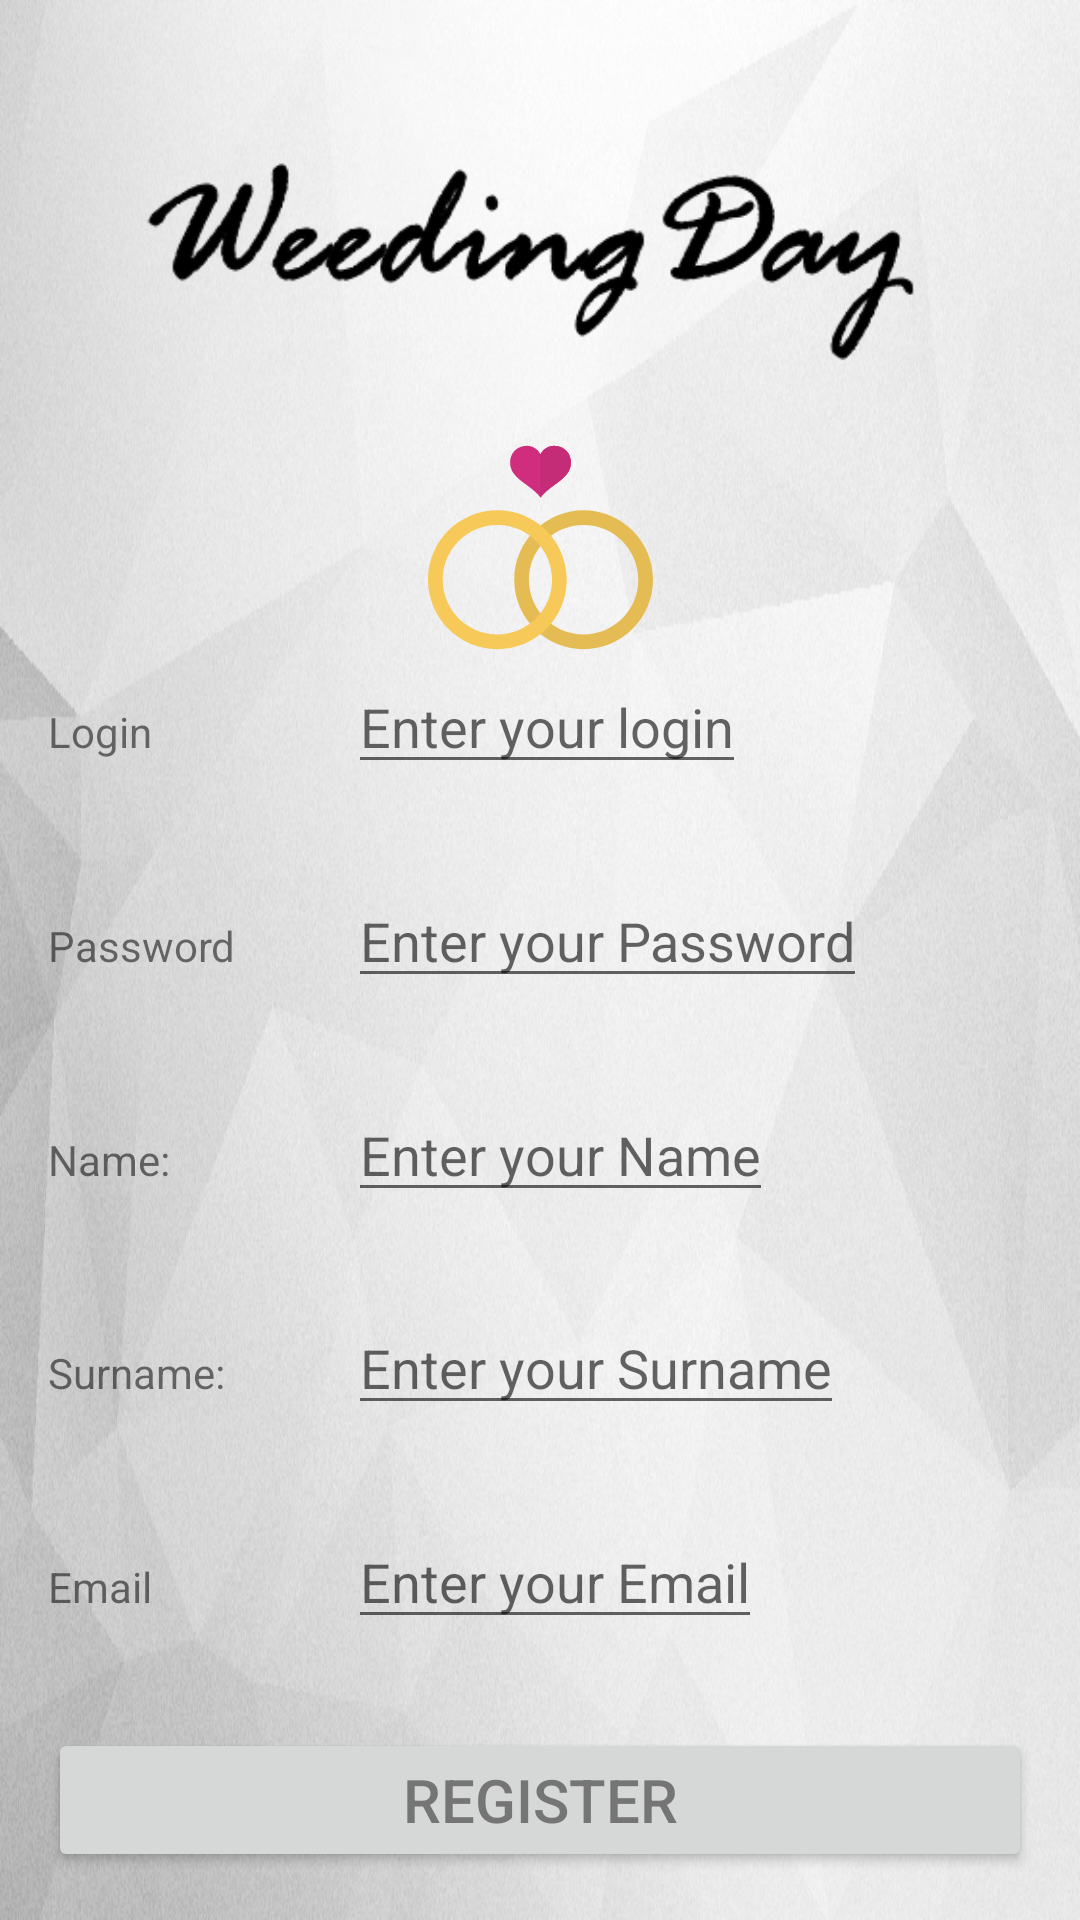

Where to tap for icons on this 1080px x 1920px app screen, as [x,y]:
wedding: [540,547]
